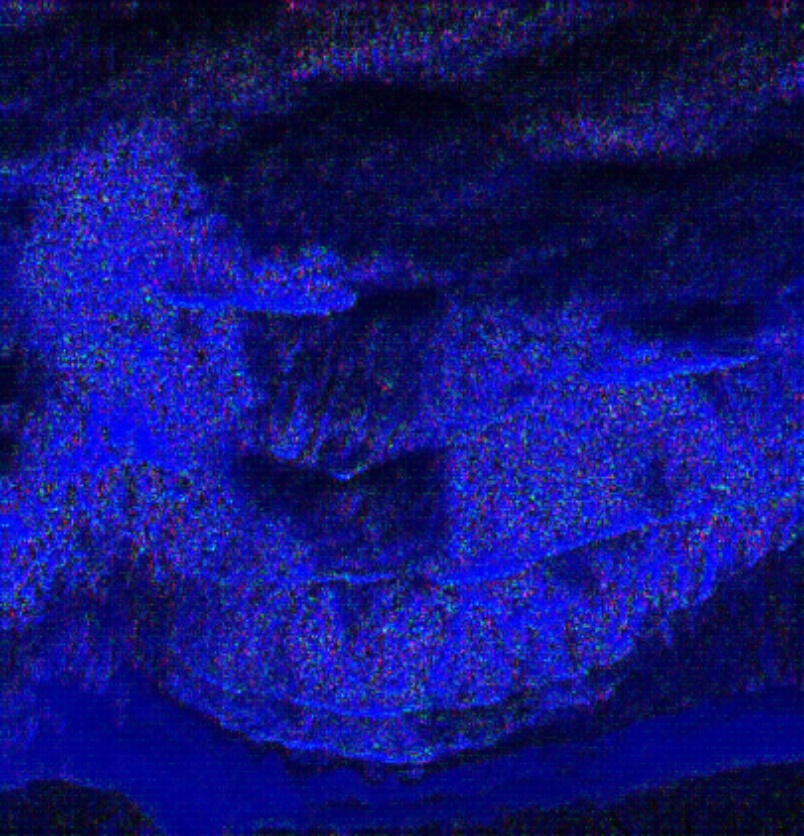rip_current: (147, 139, 526, 633)
